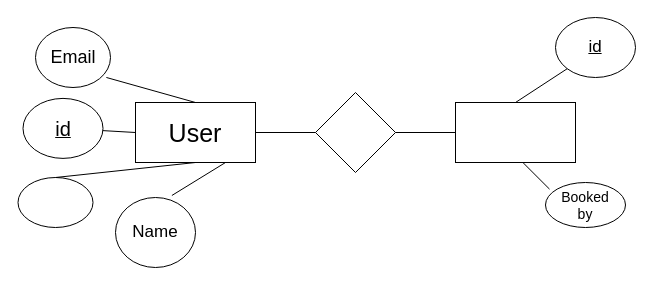
The diagram is 653 pixels wide and 285 high, and some of its shapes have lost their labels. Here are the shapes that lost their labels. From the top down, the centre of each, then its label:
At point 355,132: "booked slot".
At point 515,132: "Slot".
At point 55,202: "Password".
